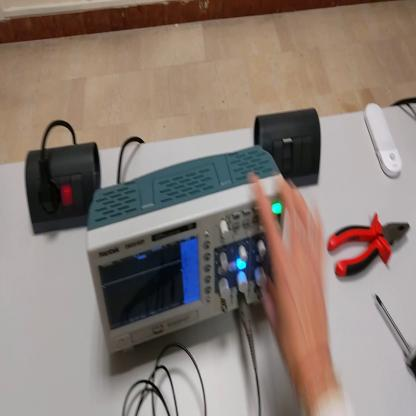hand: (250, 169, 334, 381)
oscilloscope: (83, 144, 278, 354)
pliers: (327, 220, 413, 280)
screwdriver-: (377, 294, 416, 379)
socket: (25, 141, 103, 240)
